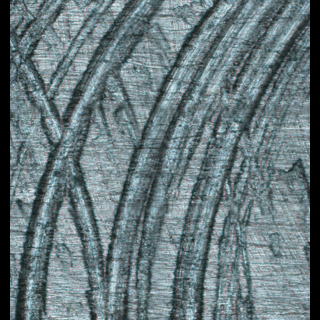d: (12, 1, 309, 320)
